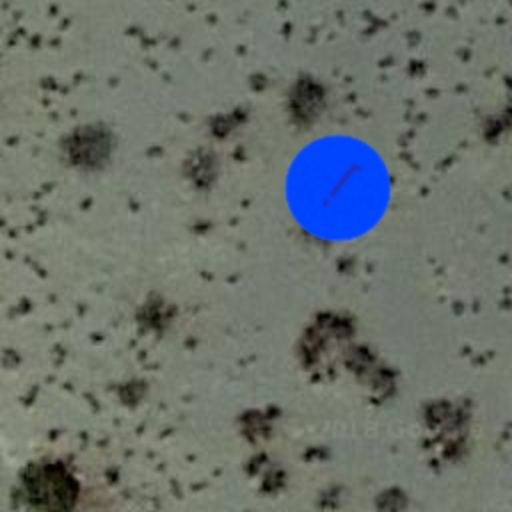circle: (266, 116, 410, 260)
